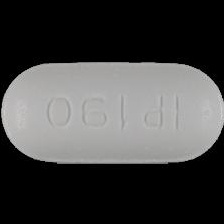68788-9907: (0, 0, 224, 224)
